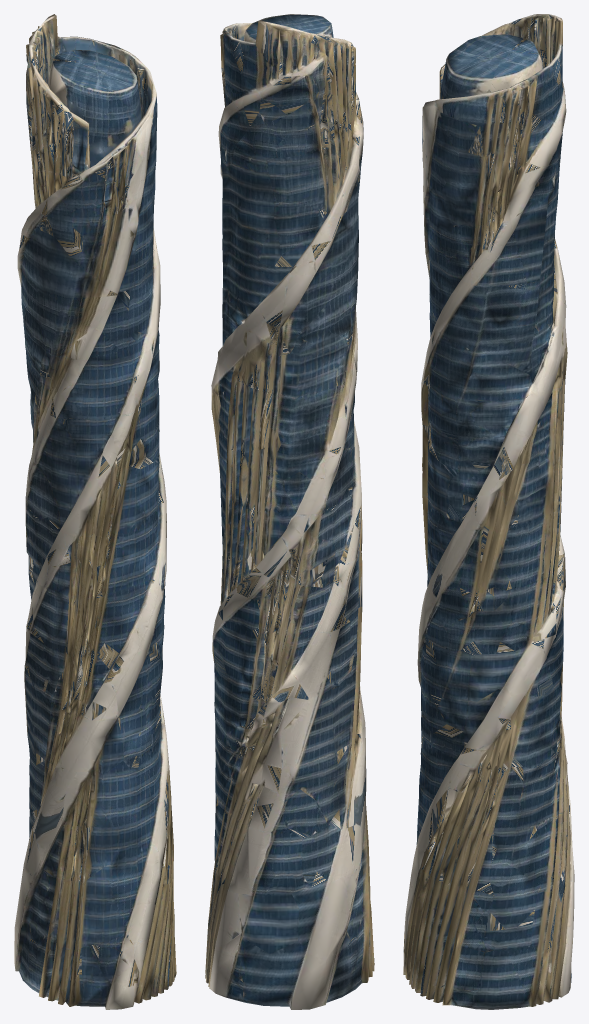
The model's file is tower_twist.glb.
3 renders of one model, left to right at view 1: azimuth 30°, elevation 25°; view 2: azimuth 150°, elevation 25°; view 3: azimuth 270°, elevation 25°, orthographic. The views are drawn at different scales.
Parts seen in each view (by area): view 1: Mesh_0; view 2: Mesh_0; view 3: Mesh_0.
Boxes of the visible parts, left/top/right/bottom form: Mesh_0: left=14, top=14, right=176, bottom=1009; Mesh_0: left=205, top=14, right=374, bottom=1009; Mesh_0: left=403, top=14, right=574, bottom=1009.
Size of the model in its own units: 20.51 by 140 by 22.75.
Materials: 1 (1 with a texture image).
